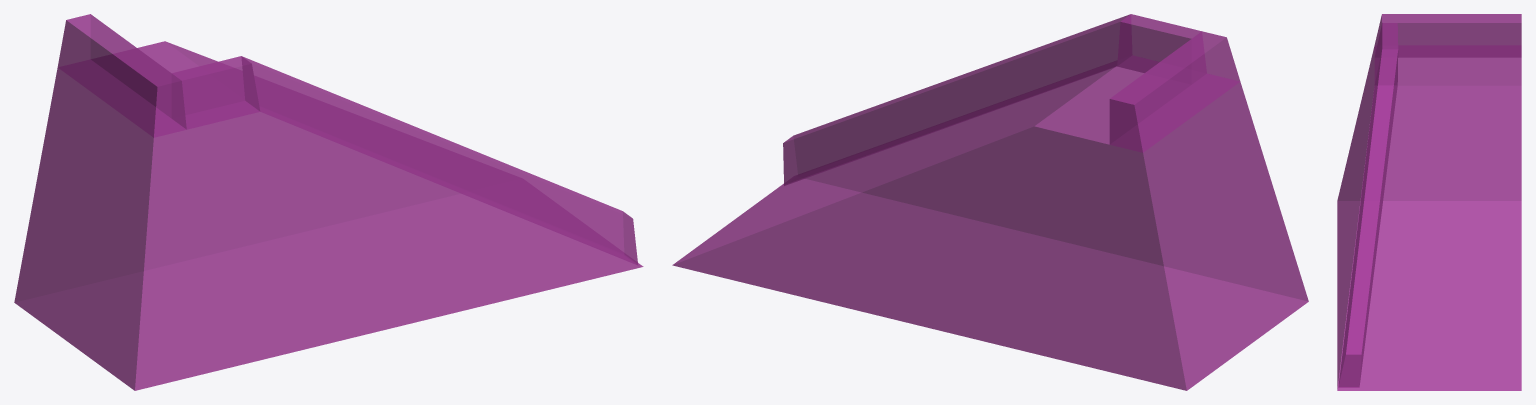
File: SM_Bld_Wall_Fort_Stairs_02_Collision.fbx
The picture shows the model from 3 angles, left to right: view 1: azimuth 30°, elevation 25°; view 2: azimuth 150°, elevation 25°; view 3: azimuth 270°, elevation 25°; orthographic projection. The views are drawn at different scales.
Parts seen in each view (by area): view 1: SM_Bld_Wall_Fort_Stairs_02_Collision; view 2: SM_Bld_Wall_Fort_Stairs_02_Collision; view 3: SM_Bld_Wall_Fort_Stairs_02_Collision.
Boxes of the visible parts, x1,y1,x2,y2 form: SM_Bld_Wall_Fort_Stairs_02_Collision: [14, 14, 643, 390]; SM_Bld_Wall_Fort_Stairs_02_Collision: [672, 14, 1308, 390]; SM_Bld_Wall_Fort_Stairs_02_Collision: [1337, 14, 1521, 390].
Size of the model in its own units: 1786 by 906 by 733.
